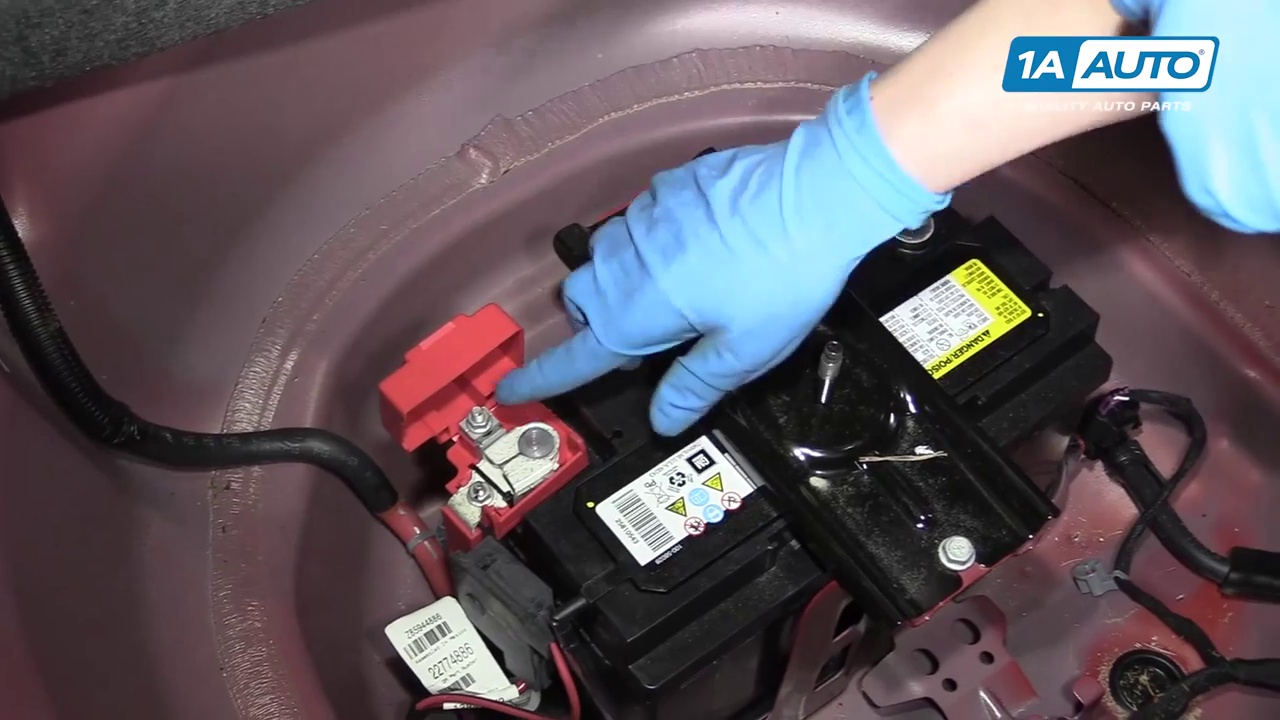battery: (492, 171, 1102, 636)
pos_connected: (374, 299, 601, 541)
pos_touched: (419, 262, 741, 537)
